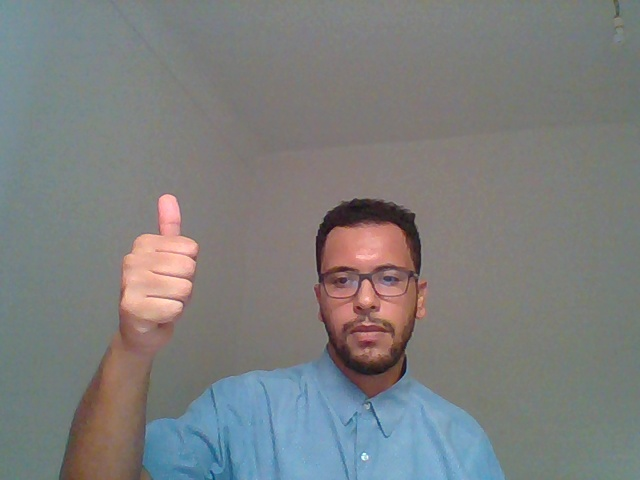ok: (71, 159, 209, 401)
